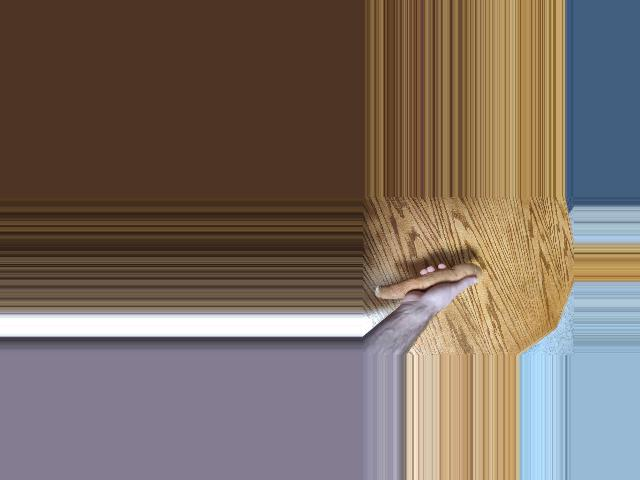sweet_potato: (374, 262, 480, 301)
